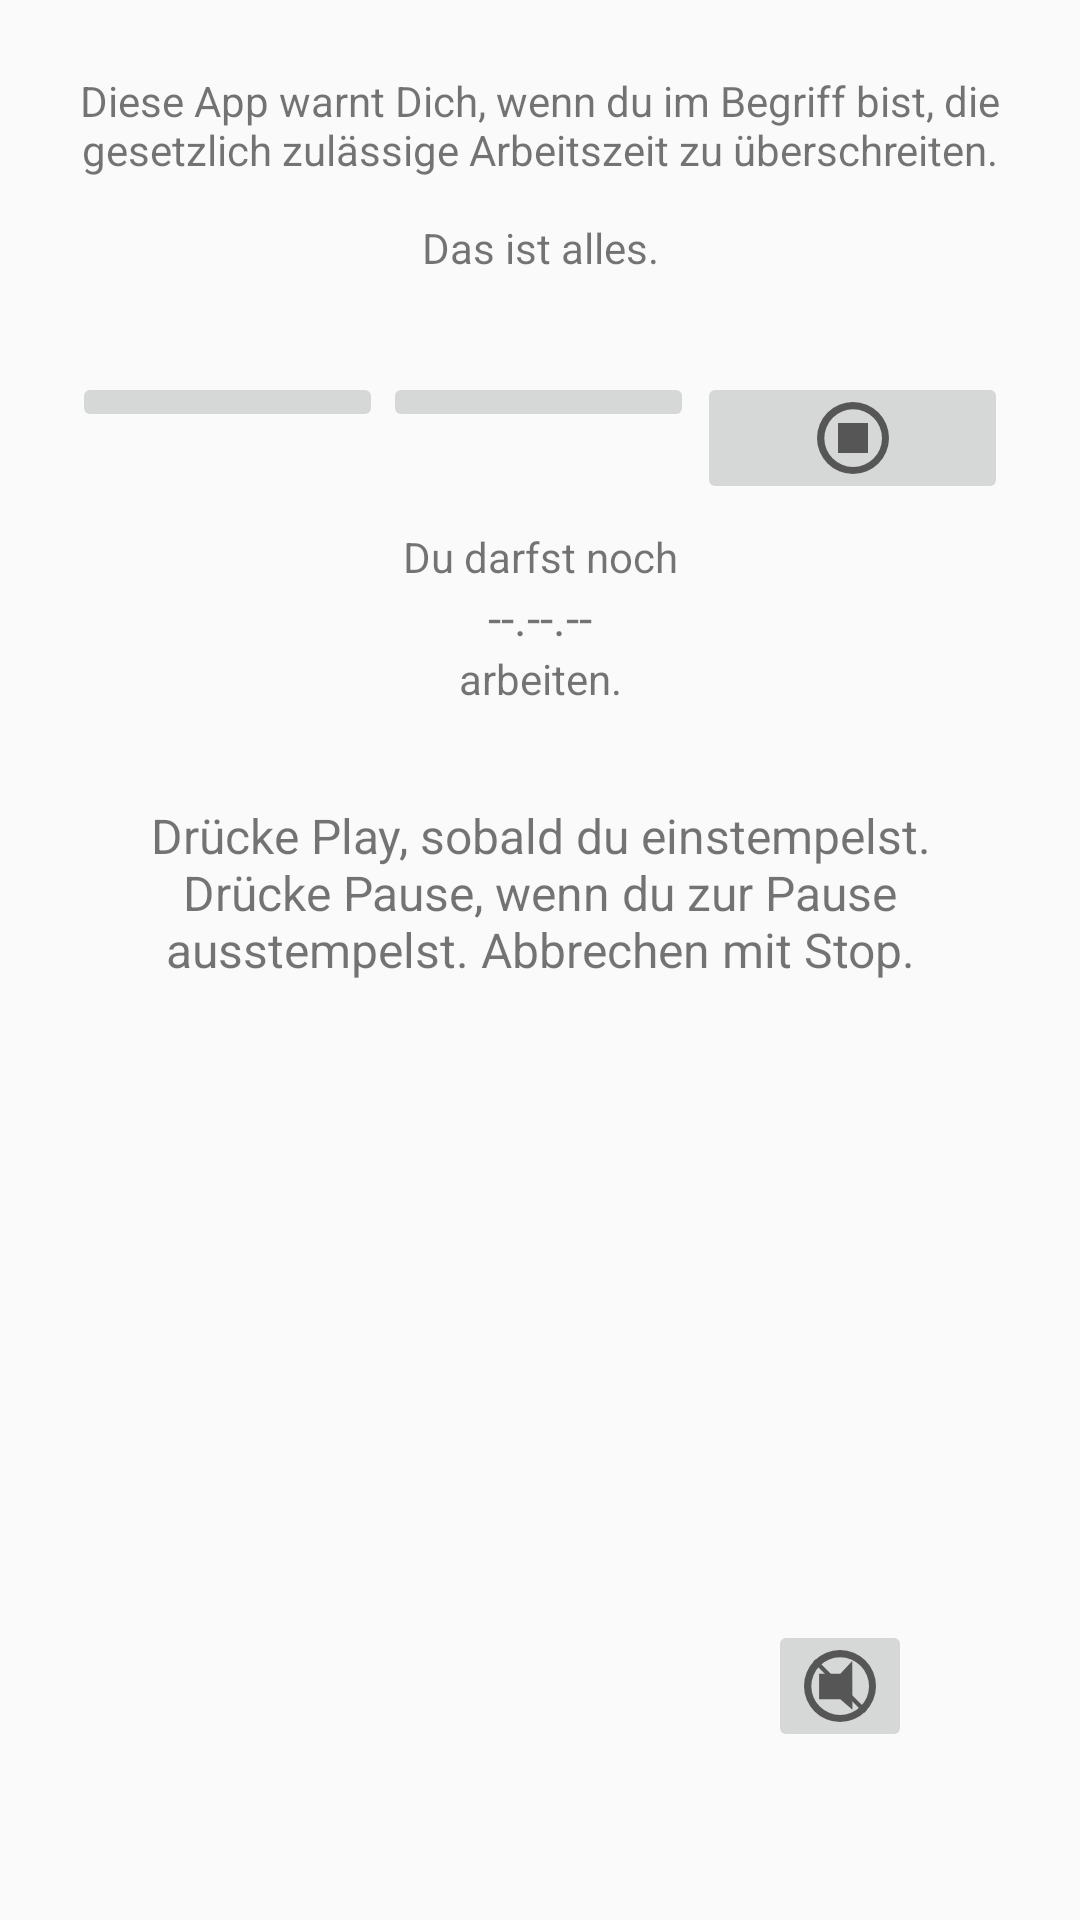

Icon click points for this 1080 x 1920 phone screenshot, format [x,y]:
mute button: [840,1686]
stop button: [852,438]
